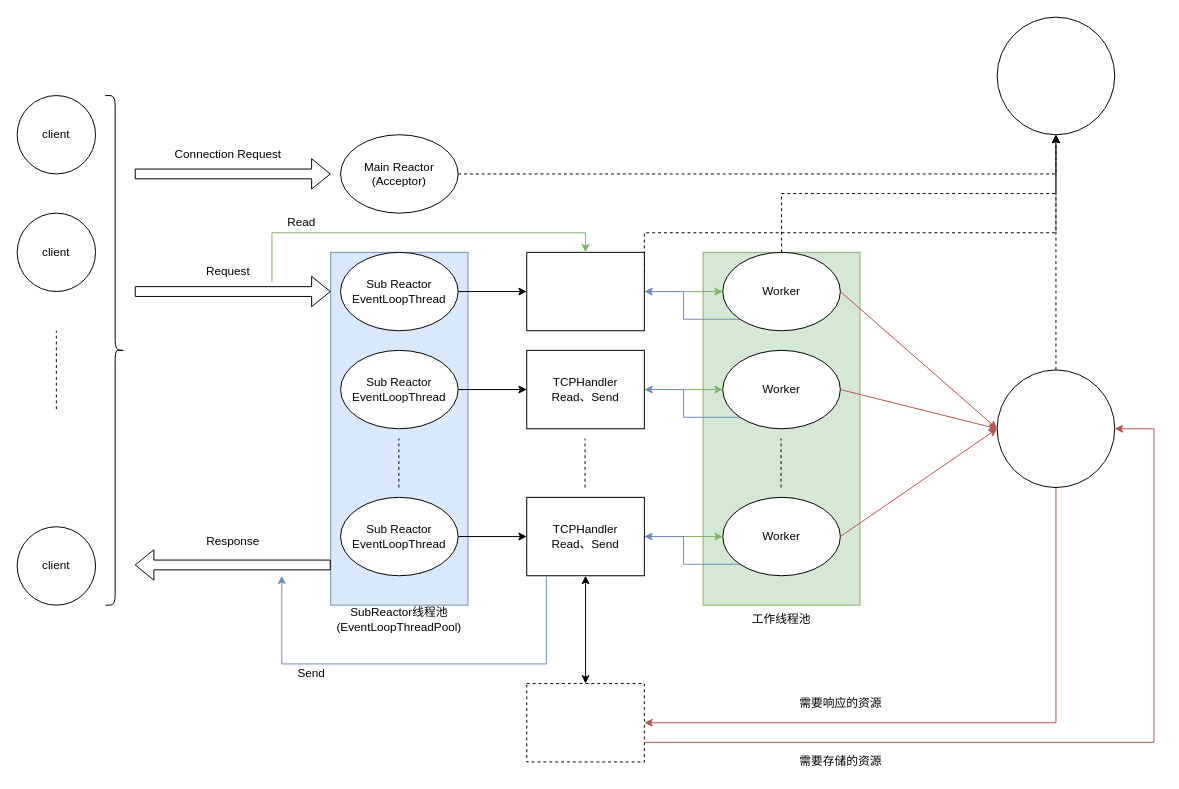
Some shapes in this 1179 by 789 pixel diagram are drawn without their labels. Each missing label, with the box of its shape:
Log 输出服务器行为日志: (996, 16, 1115, 135)
Mem: (526, 683, 644, 762)
Resources In Disk: (996, 369, 1115, 488)
TCPConnection Read、Send: (526, 251, 644, 331)
